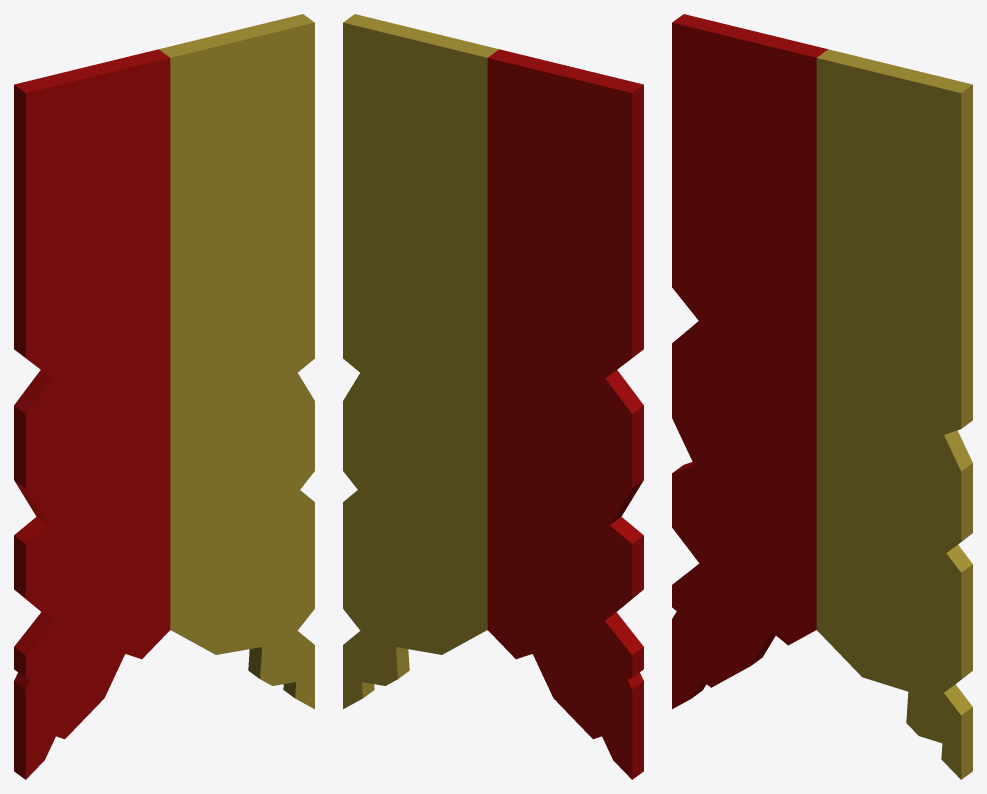
File: 66thjam_banner.fbx
3 renders of one model, left to right at view 1: azimuth 30°, elevation 25°; view 2: azimuth 150°, elevation 25°; view 3: azimuth 330°, elevation 25°, orthographic.
Visible parts, largest first — view 1: Cube.007; view 2: Cube.007; view 3: Cube.007.
Part boxes in pixels (<box>): Cube.007: <box>14,14,314,779</box>; Cube.007: <box>343,14,643,779</box>; Cube.007: <box>672,14,972,779</box>.
Size of the model in its own units: 53.53 by 121 by 3.78.
Materials: 1 (1 with a texture image).
